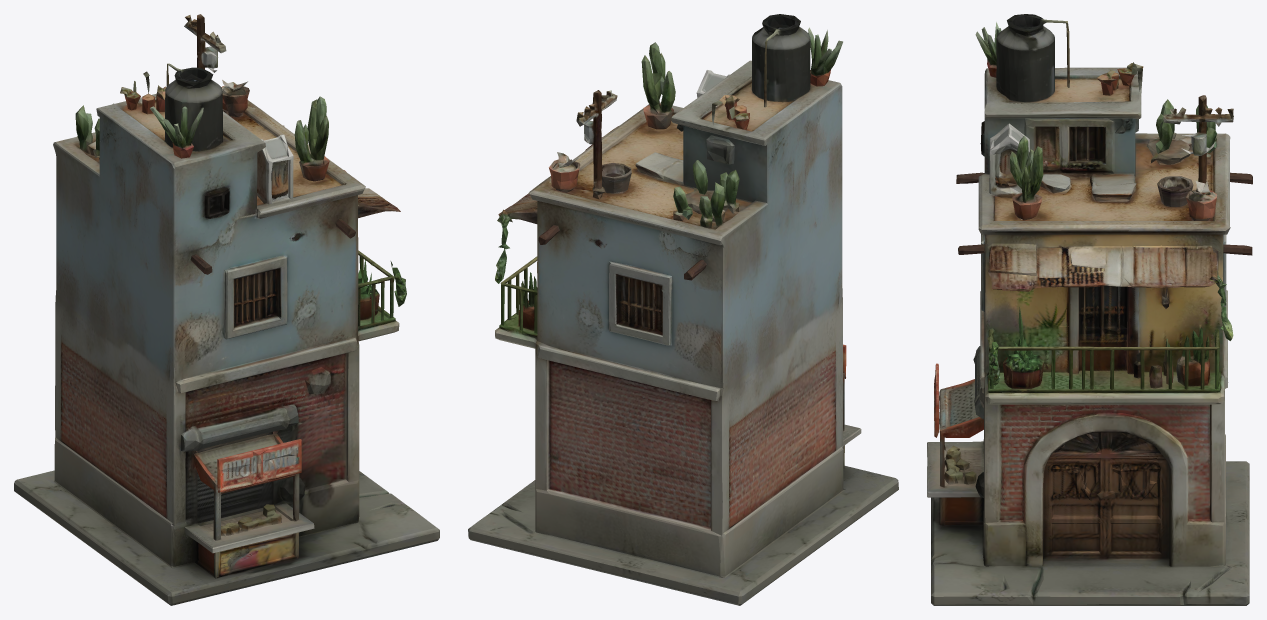
File: casa sola 1.glb
The picture shows the model from 3 angles, left to right: view 1: azimuth 30°, elevation 25°; view 2: azimuth 150°, elevation 25°; view 3: azimuth 270°, elevation 25°; orthographic projection.
Visible parts, largest first — view 1: tripo_node_ac5ec6bf-382d-4e02-b08b-44c8f2e2f51f; view 2: tripo_node_ac5ec6bf-382d-4e02-b08b-44c8f2e2f51f; view 3: tripo_node_ac5ec6bf-382d-4e02-b08b-44c8f2e2f51f.
Part boxes in pixels (box(x1,y1,x2,y2)): tripo_node_ac5ec6bf-382d-4e02-b08b-44c8f2e2f51f: box(14, 14, 439, 605); tripo_node_ac5ec6bf-382d-4e02-b08b-44c8f2e2f51f: box(468, 14, 898, 605); tripo_node_ac5ec6bf-382d-4e02-b08b-44c8f2e2f51f: box(927, 14, 1252, 605).
Bounding box in the file's own units: 0.5907 × 0.9998 × 0.6066.
1 material, 1 textured.
